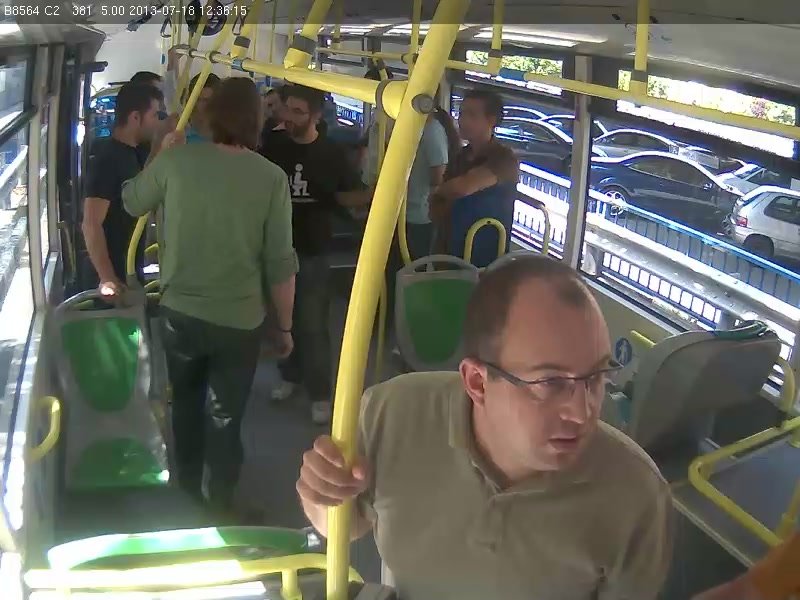Head: (455, 259, 621, 473), (208, 73, 268, 142), (114, 79, 167, 152), (281, 79, 332, 144), (455, 85, 505, 151), (180, 62, 221, 122)
